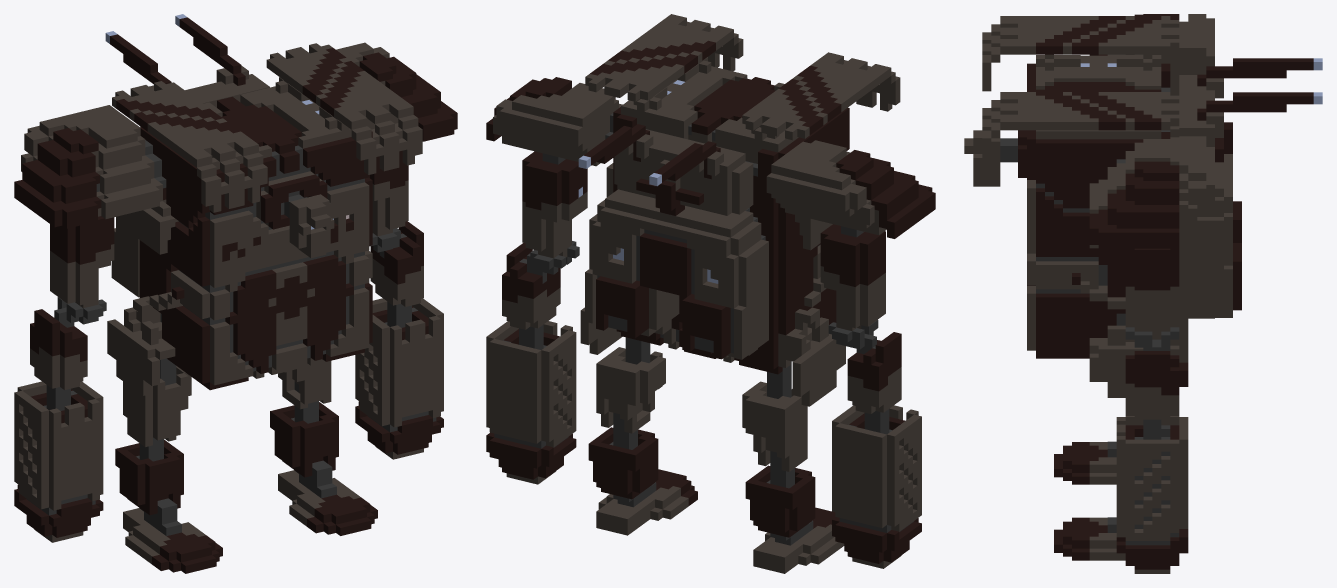
Rendered from MechaGolem.glb.
3 renders of one model, left to right at view 1: azimuth 30°, elevation 25°; view 2: azimuth 150°, elevation 25°; view 3: azimuth 270°, elevation 25°, orthographic.
Visible parts, largest first — view 1: Node; view 2: Node; view 3: Node.
Boxes of the visible parts, x1,y1,x2,y2 form: Node: [14, 14, 457, 573]; Node: [486, 14, 935, 573]; Node: [964, 14, 1322, 573].
Bounding box in the file's own units: 5.2 × 5.4 × 4.
1 material, 1 textured.
